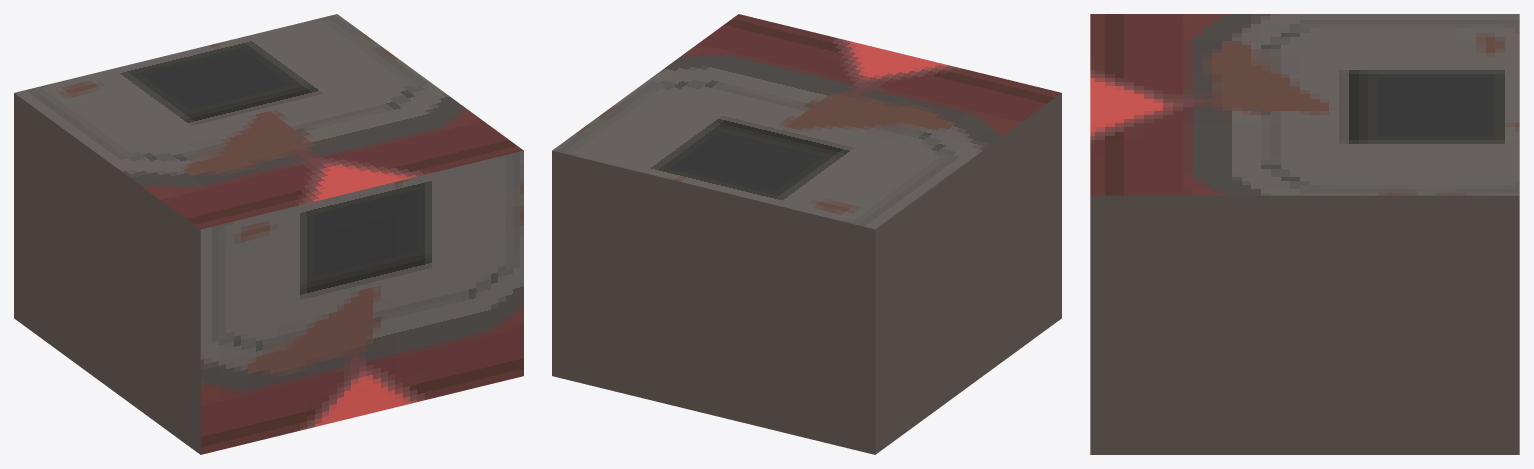
File: Building_AncientMiningCharge.glb
3 renders of one model, left to right at view 1: azimuth 30°, elevation 25°; view 2: azimuth 150°, elevation 25°; view 3: azimuth 270°, elevation 25°, orthographic. The views are drawn at different scales.
Visible parts, largest first — view 1: AncientMiningCharge; view 2: AncientMiningCharge; view 3: AncientMiningCharge.
Boxes of the visible parts, bbox=[...] form: AncientMiningCharge: bbox=[14, 14, 523, 454]; AncientMiningCharge: bbox=[552, 14, 1061, 454]; AncientMiningCharge: bbox=[1090, 14, 1519, 454].
Size of the model in its own units: 0.9 by 0.6 by 0.9.
1 material, 1 textured.
